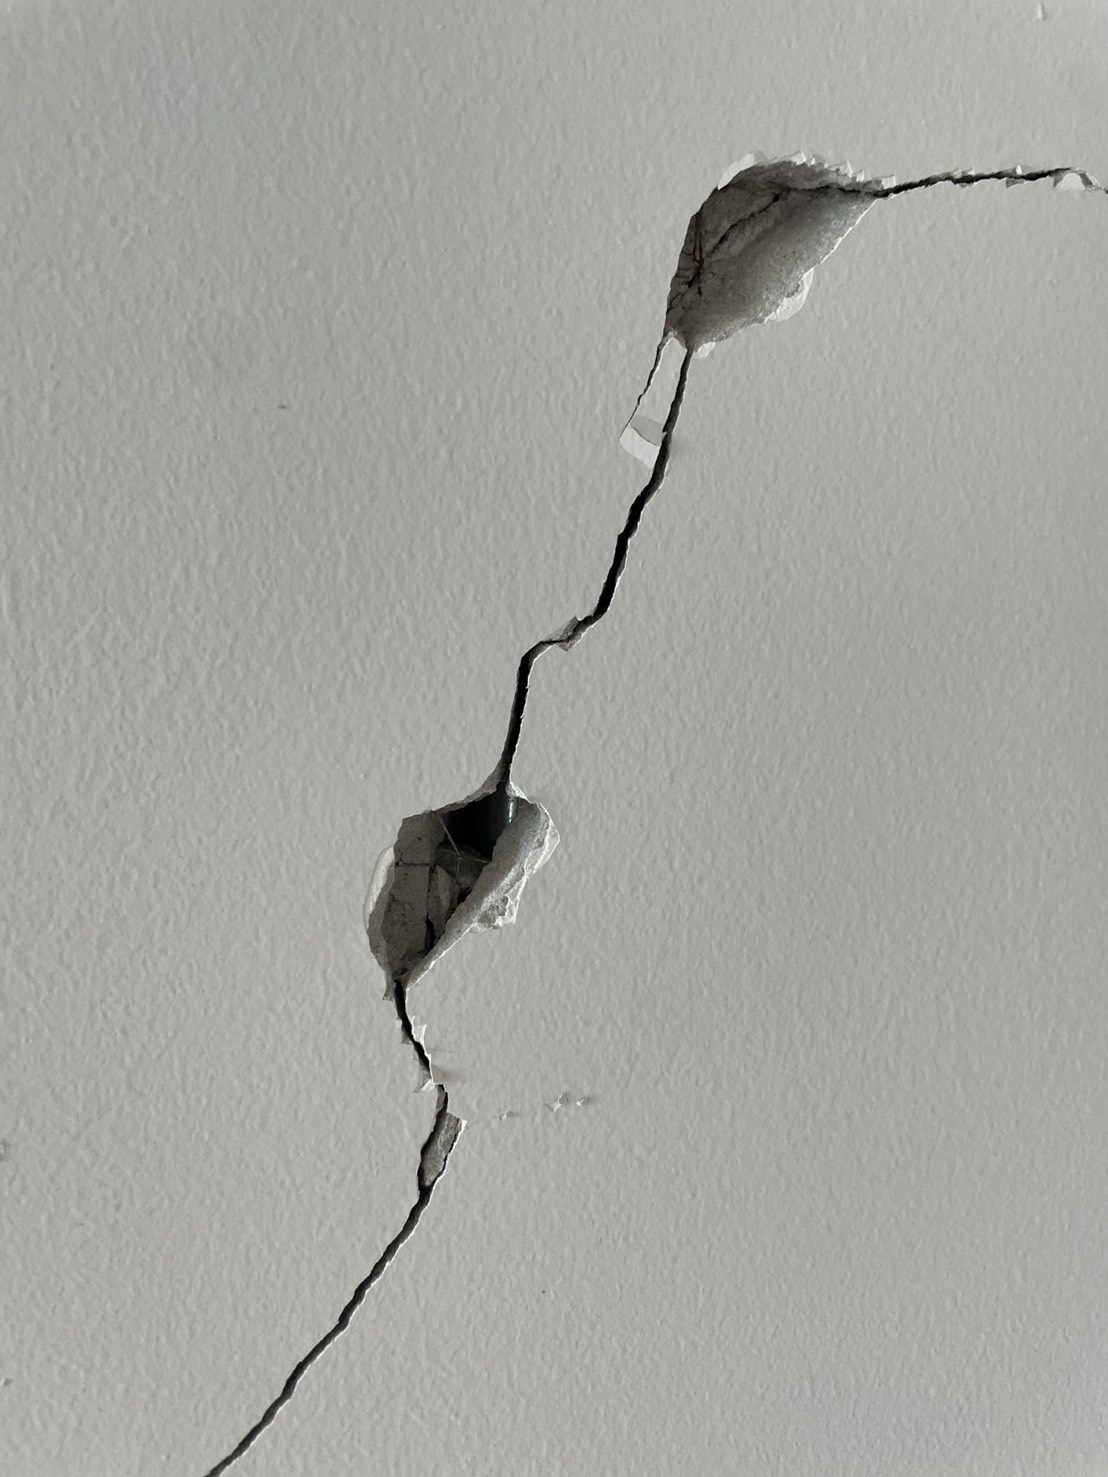Medium: (152, 127, 1006, 1406)
